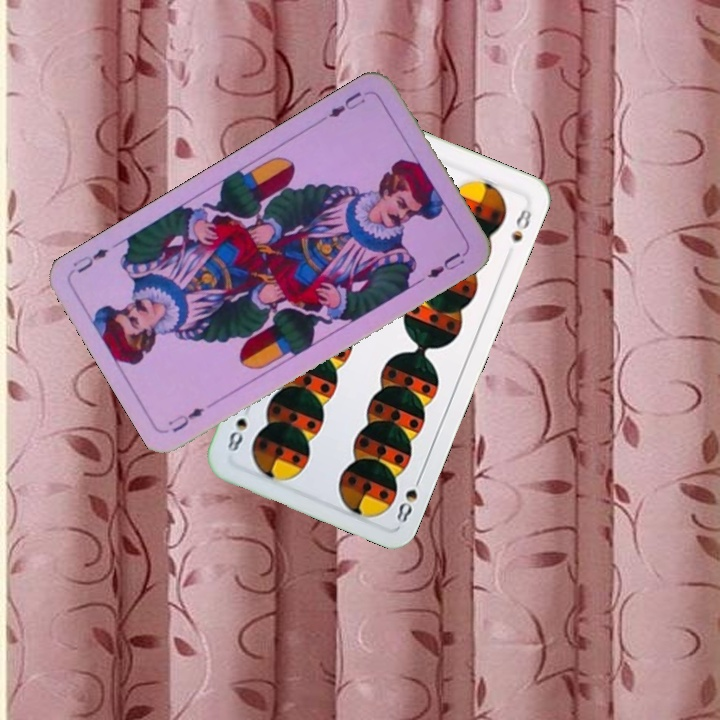EU: (324, 87, 368, 121), (164, 403, 207, 435)
S8: (392, 469, 425, 526)
